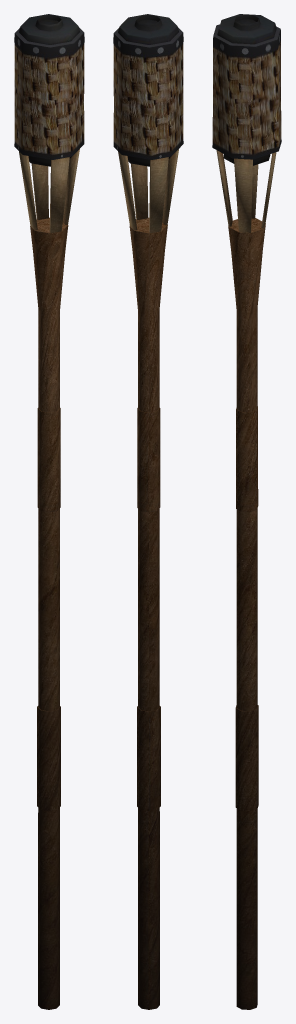
File: Outdoor_Torch.glb
3 views of the same model, side by side, from view 1: azimuth 30°, elevation 25°; view 2: azimuth 210°, elevation 25°; view 3: azimuth 270°, elevation 25° (orthographic).
Parts seen in each view (by area): view 1: Tiki; view 2: Tiki; view 3: Tiki.
Part boxes in pixels (<box>): Tiki: <box>14,14,84,1009</box>; Tiki: <box>113,14,183,1009</box>; Tiki: <box>212,14,281,1009</box>.
Bounding box in the file's own units: 0.1269 × 2 × 0.1269.
Materials: 1 (1 with a texture image).
